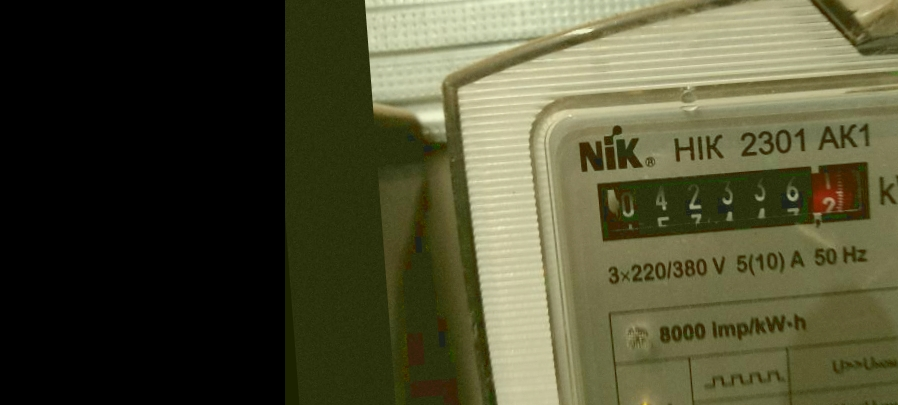0: (618, 189, 636, 218)
1: (820, 168, 833, 190)
2: (685, 180, 703, 210), (820, 193, 837, 213)
3: (749, 172, 767, 203), (717, 176, 734, 205)
4: (651, 181, 670, 211)
6: (783, 171, 802, 202)
screen: (584, 147, 885, 250)
